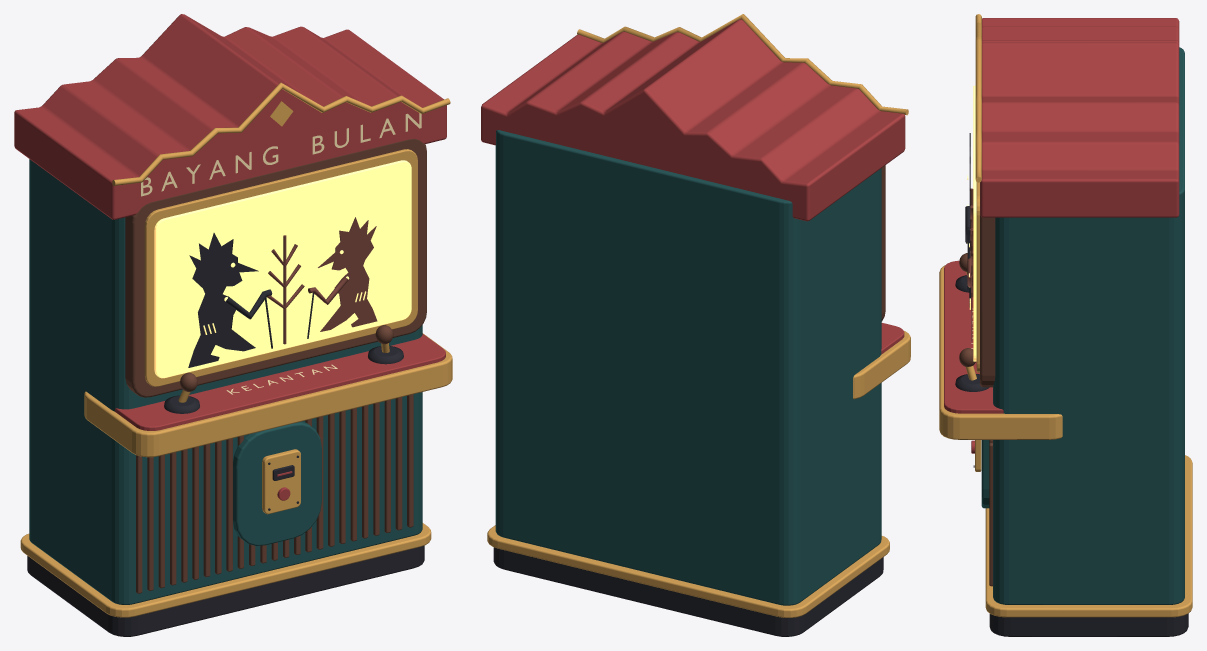
3 views of the same model, side by side, from view 1: azimuth 30°, elevation 25°; view 2: azimuth 150°, elevation 25°; view 3: azimuth 270°, elevation 25° (orthographic).
Parts seen in each view (by area): view 1: Bayang Bulan - Structure, Bayang Bulan - Graphics, Bayang Bulan - Joinery, Bayang Bulan - Shadow theatre, Bayang Bulan - Controls; view 2: Bayang Bulan - Structure, Bayang Bulan - Graphics; view 3: Bayang Bulan - Structure, Bayang Bulan - Graphics, Bayang Bulan - Controls, Bayang Bulan - Shadow theatre, Bayang Bulan - Joinery.
Part boxes in pixels (x1=…): Bayang Bulan - Structure: x1=14, y1=14, x2=452, y2=636; Bayang Bulan - Graphics: x1=112, y1=82, x2=450, y2=545; Bayang Bulan - Joinery: x1=136, y1=394, x2=413, y2=593; Bayang Bulan - Shadow theatre: x1=188, y1=217, x2=377, y2=367; Bayang Bulan - Controls: x1=164, y1=325, x2=403, y2=413; Bayang Bulan - Structure: x1=481, y1=19, x2=910, y2=636; Bayang Bulan - Graphics: x1=577, y1=14, x2=908, y2=321; Bayang Bulan - Structure: x1=939, y1=18, x2=1192, y2=636; Bayang Bulan - Graphics: x1=971, y1=14, x2=995, y2=508; Bayang Bulan - Controls: x1=955, y1=253, x2=989, y2=391; Bayang Bulan - Shadow theatre: x1=965, y1=133, x2=973, y2=341; Bayang Bulan - Joinery: x1=989, y1=440, x2=992, y2=586.
Bounding box in the file's own units: 1.46 × 2.17 × 0.954.
